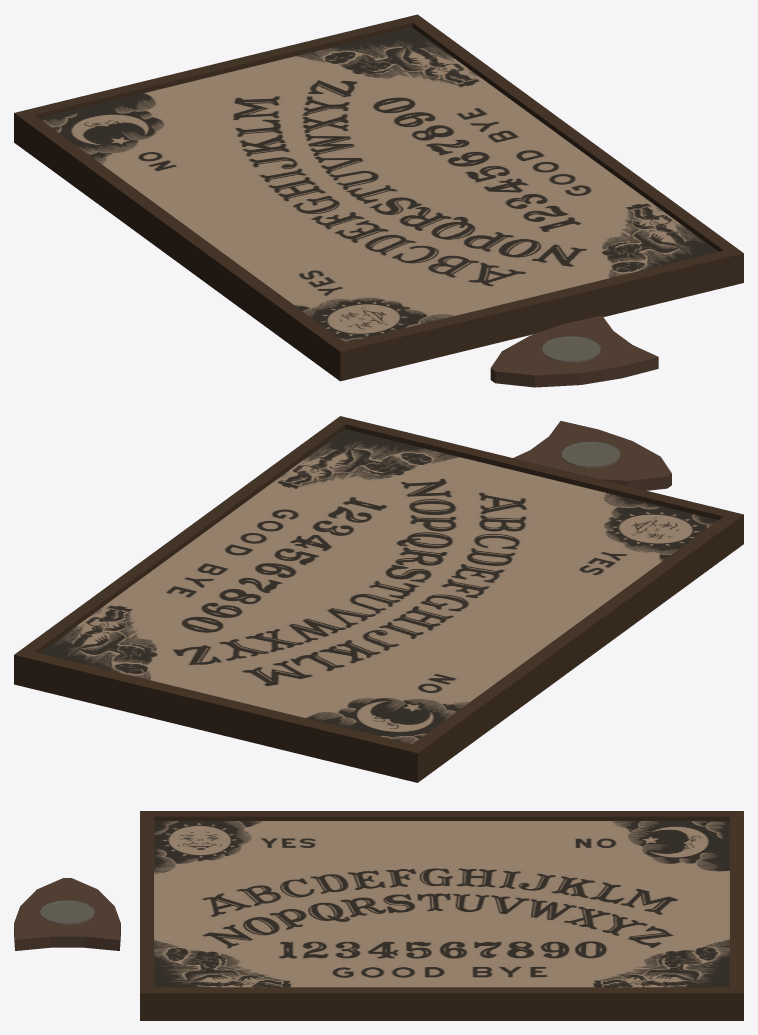
The model's file is S_OuijaTable.fbx.
The picture shows the model from 3 angles, top to bottom: view 1: azimuth 30°, elevation 25°; view 2: azimuth 150°, elevation 25°; view 3: azimuth 270°, elevation 25°; orthographic projection. The views are drawn at different scales.
Visible parts, largest first — view 1: S_OuijaTable, S_OuijaCursor; view 2: S_OuijaTable, S_OuijaCursor; view 3: S_OuijaTable, S_OuijaCursor.
Boxes of the visible parts, x1,y1,x2,y2 form: S_OuijaTable: (14,14,743,381); S_OuijaCursor: (490,315,658,387); S_OuijaTable: (14,416,743,782); S_OuijaCursor: (513,421,671,490); S_OuijaTable: (140,811,743,1020); S_OuijaCursor: (14,878,120,950).
Size of the model in its own units: 69.12 by 4.99 by 117.
